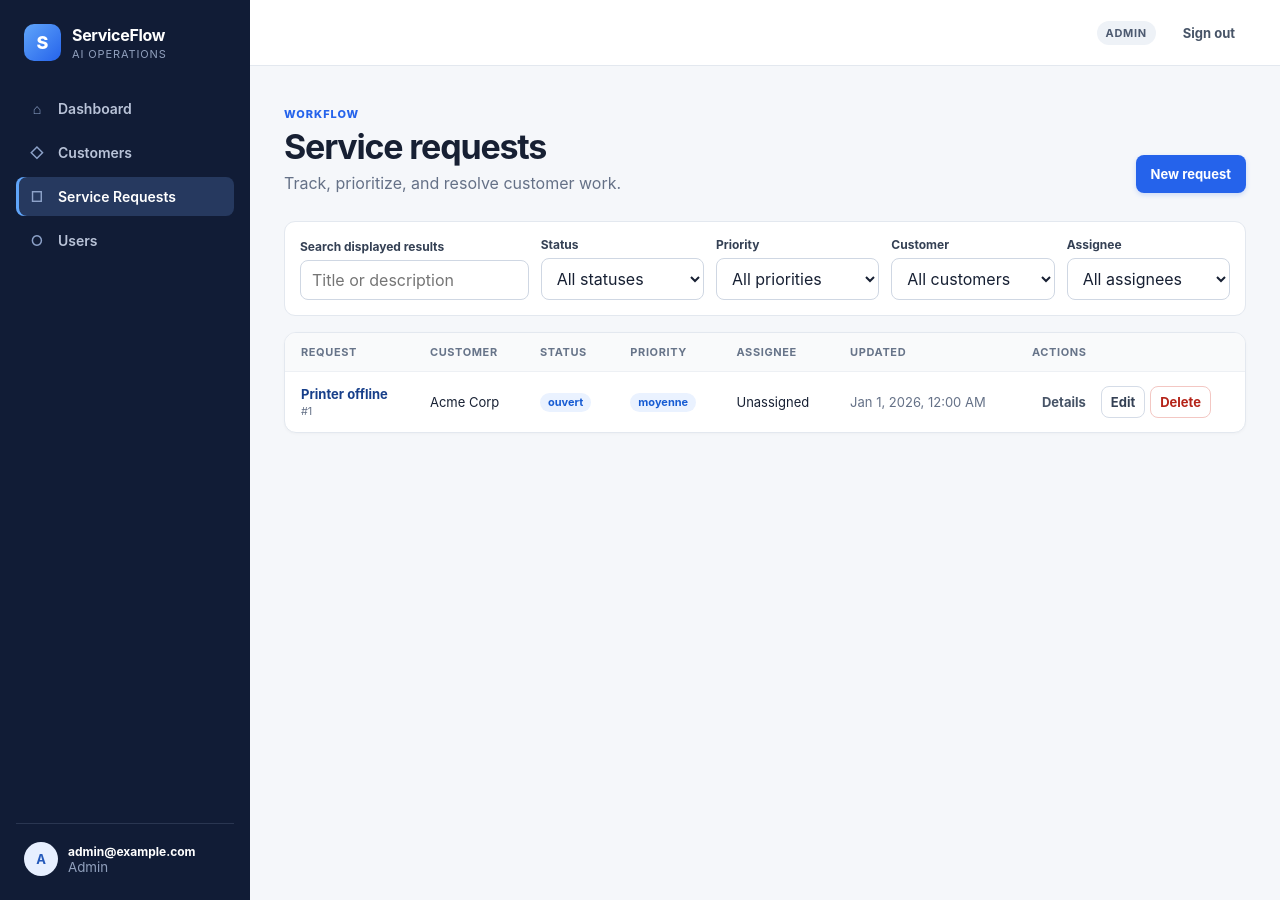
it: AI ticket suggestions › does not automatically update ticket priority
This screenshot has width=1280, height=900.
Click the button "Printer offline".
click(344, 394)  # box [301,386,388,402]
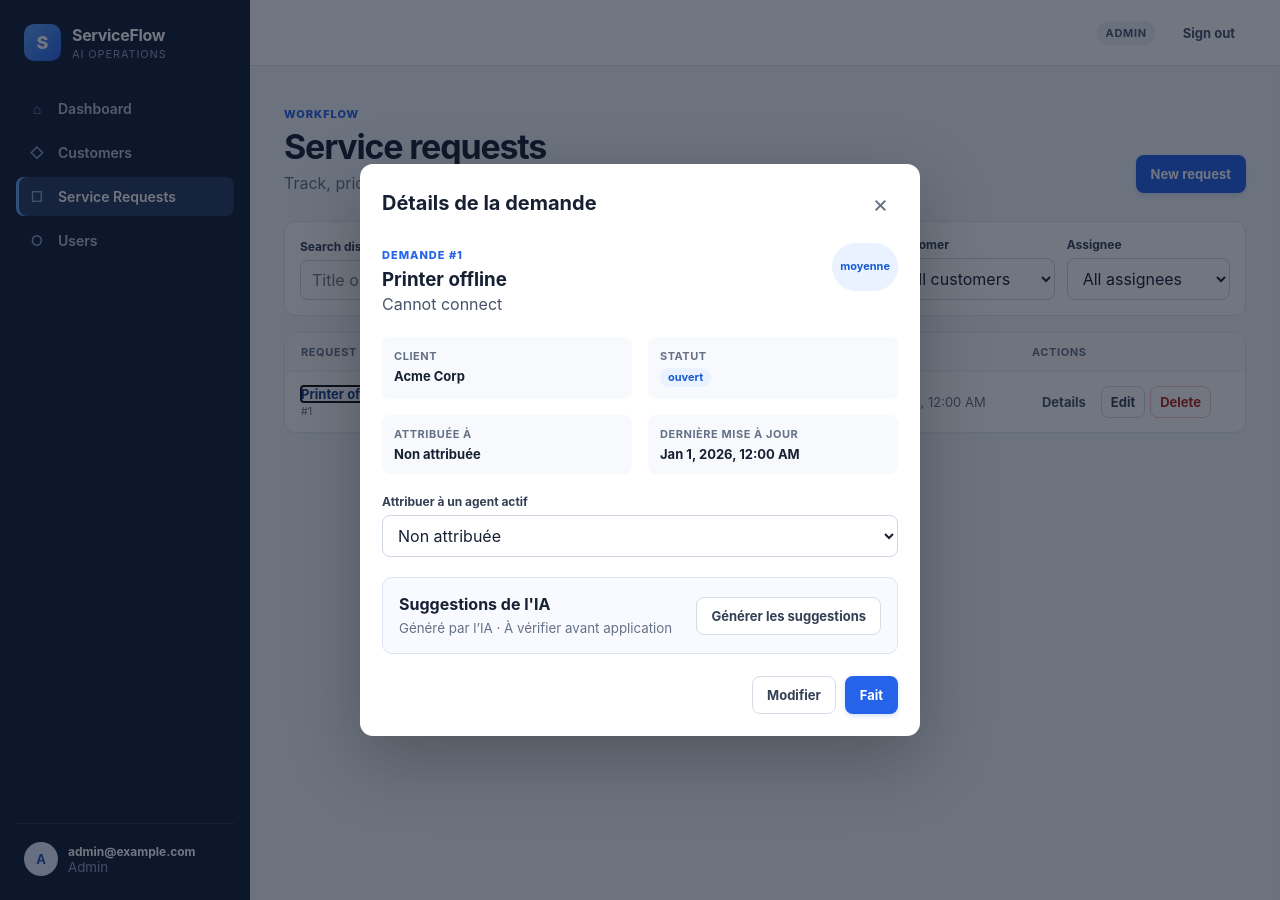
Click the button "Générer les suggestions".
click(789, 616)  # box [696,597,881,635]
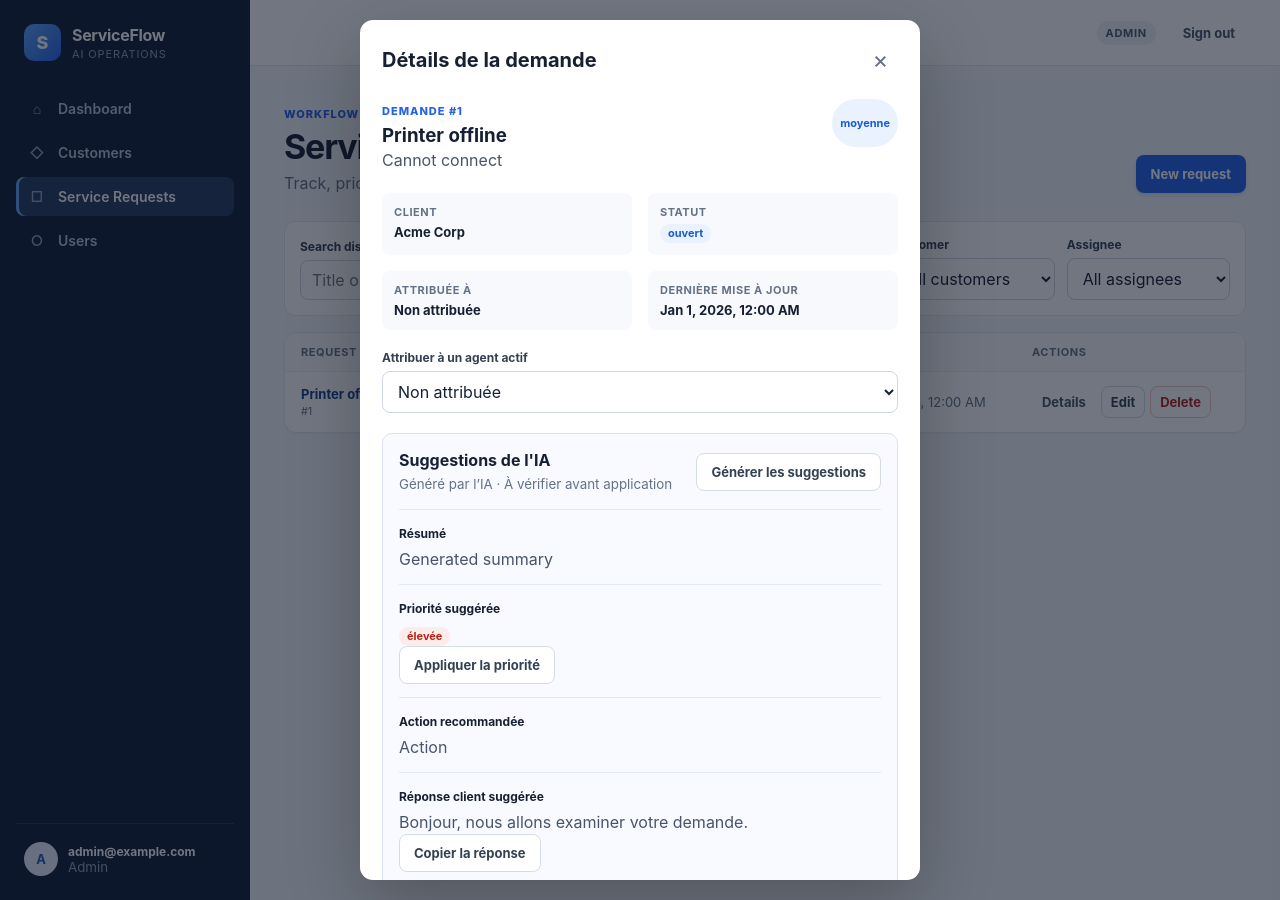
Check: the text "Generated summary" is shown, box [399,549,553,569]
